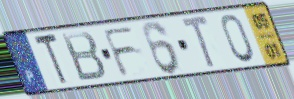0: (220, 13, 256, 65)
6: (141, 19, 183, 77)
B: (59, 29, 109, 83)
F: (100, 24, 139, 79)
T: (31, 31, 70, 88), (179, 14, 217, 72)
